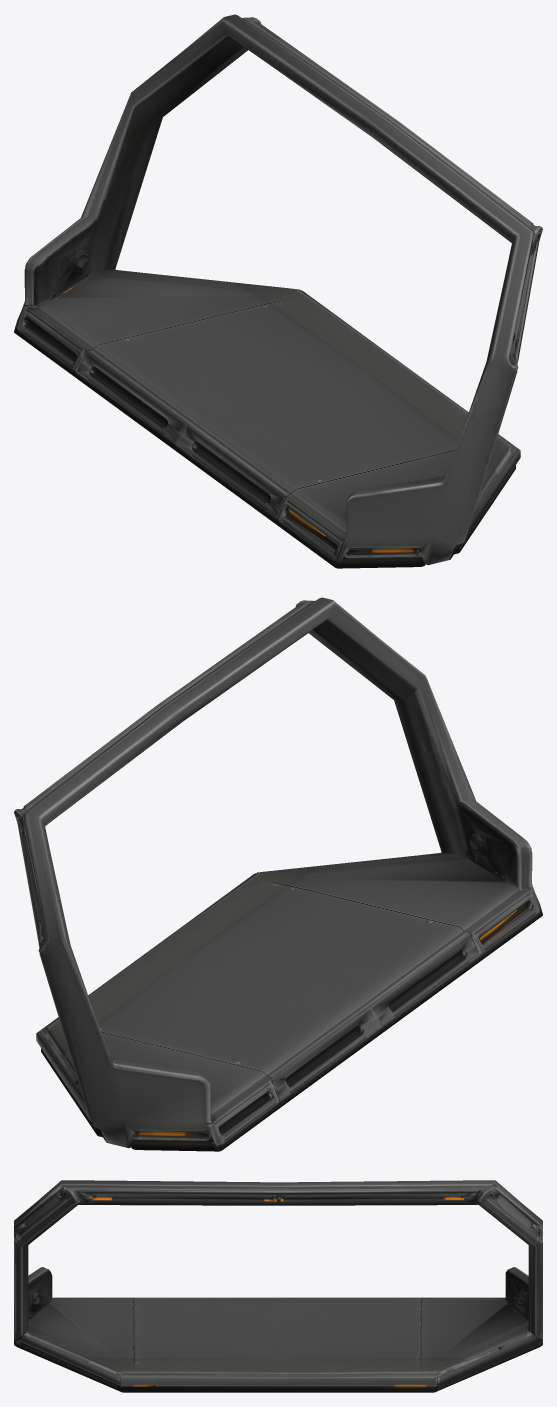
File: Glass-BlenderFBX.fbx
3 renders of one model, top to bottom at view 1: azimuth 30°, elevation 25°; view 2: azimuth 150°, elevation 25°; view 3: azimuth 270°, elevation 25°, orthographic. The views are drawn at different scales.
Visible parts, largest first — view 1: meshes[0]; view 2: meshes[0]; view 3: meshes[0].
Part boxes in pixels (x1,y1,x2,y2): meshes[0]: [14, 14, 542, 568]; meshes[0]: [14, 597, 542, 1151]; meshes[0]: [14, 1180, 542, 1392].
Size of the model in its own units: 0.377 by 0.4199 by 0.998.
